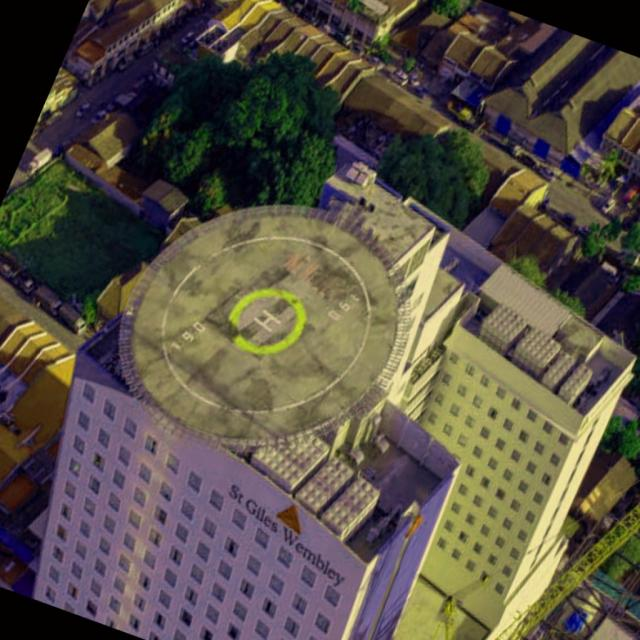helipad: (225, 283, 308, 358)
